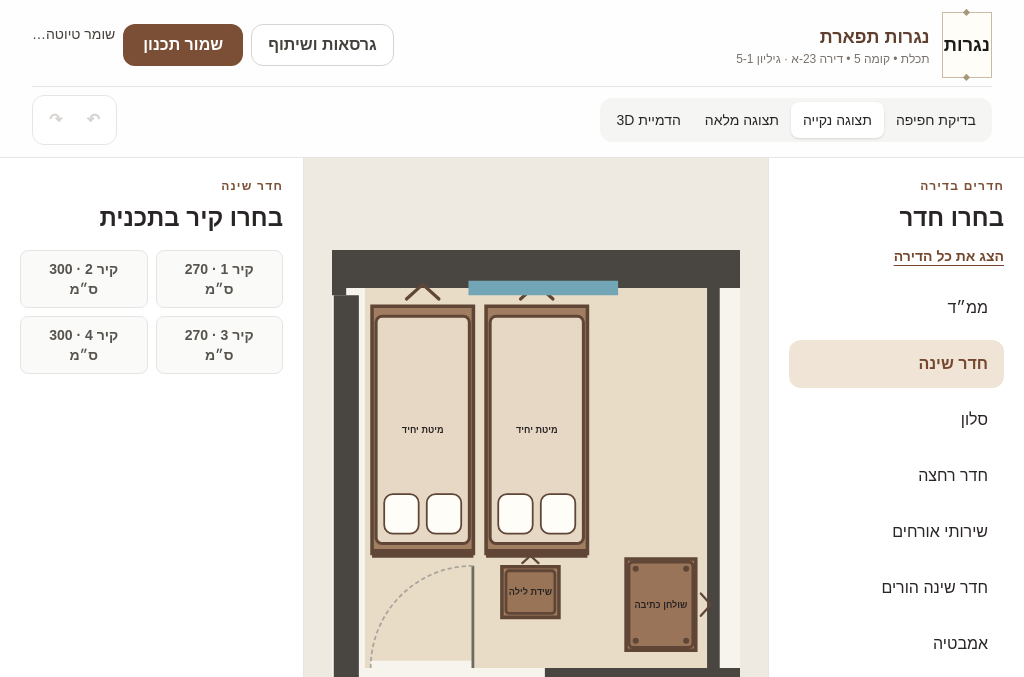
Test case: Tiferet planner UI › מוחק גרסה בלי לאבד את הטיוטה הפעילה
Click the button "גרסאות ושיתוף": (322, 45) x1=251 y1=24 x2=394 y2=66
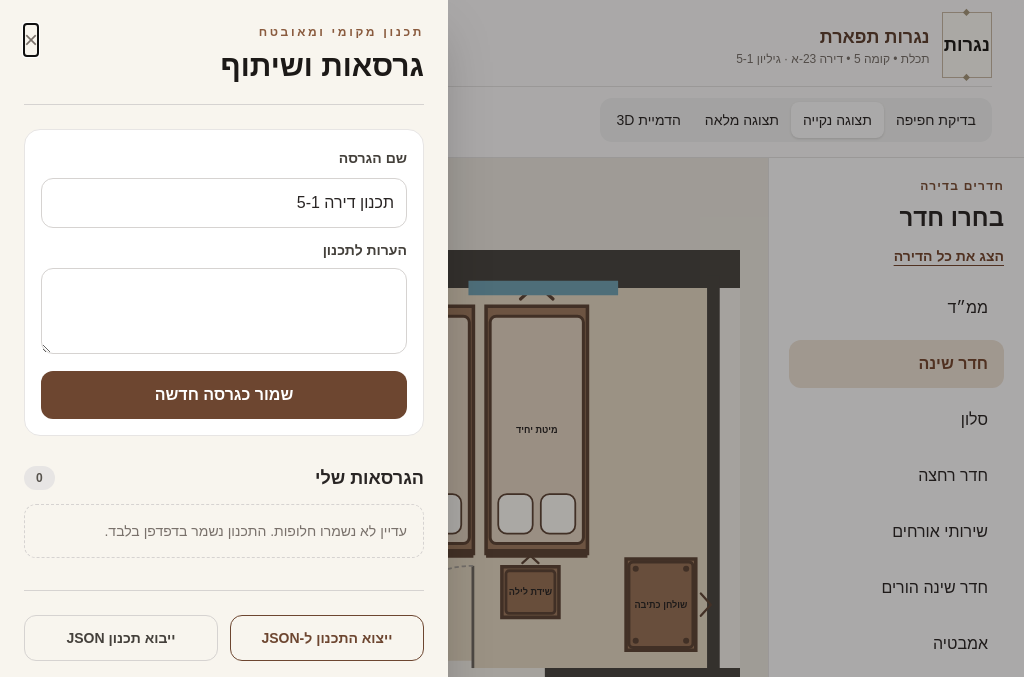
Replace the text in the field labelled "שם הגרסה" with "גרסה למחיקה": (224, 203) x1=41 y1=178 x2=407 y2=228
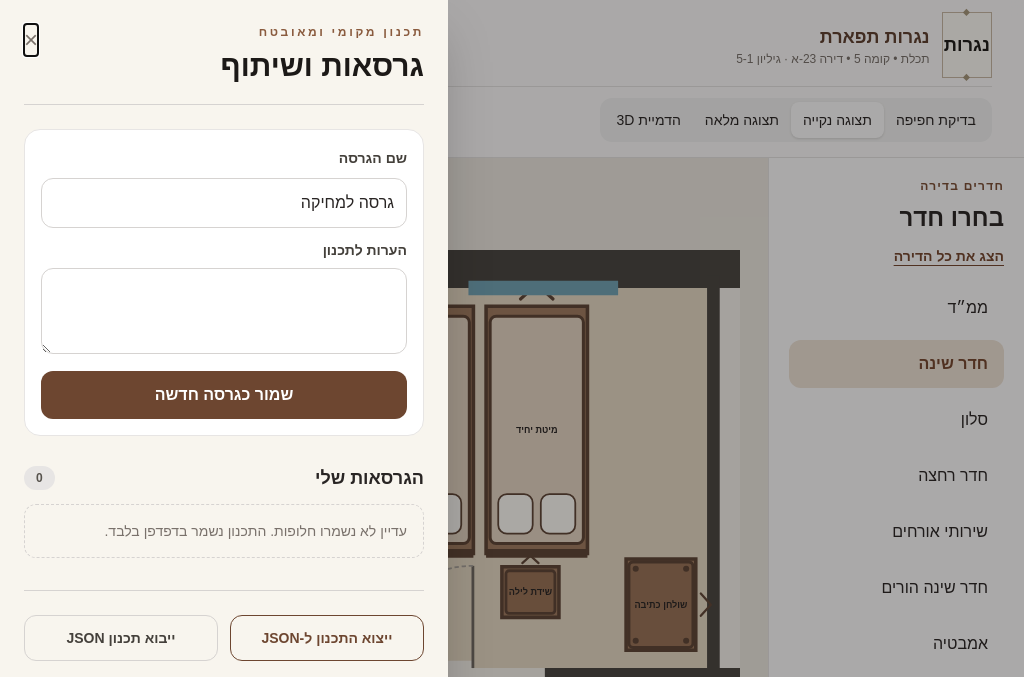
Click the button "שמור כגרסה חדשה": (224, 395) x1=41 y1=371 x2=407 y2=419
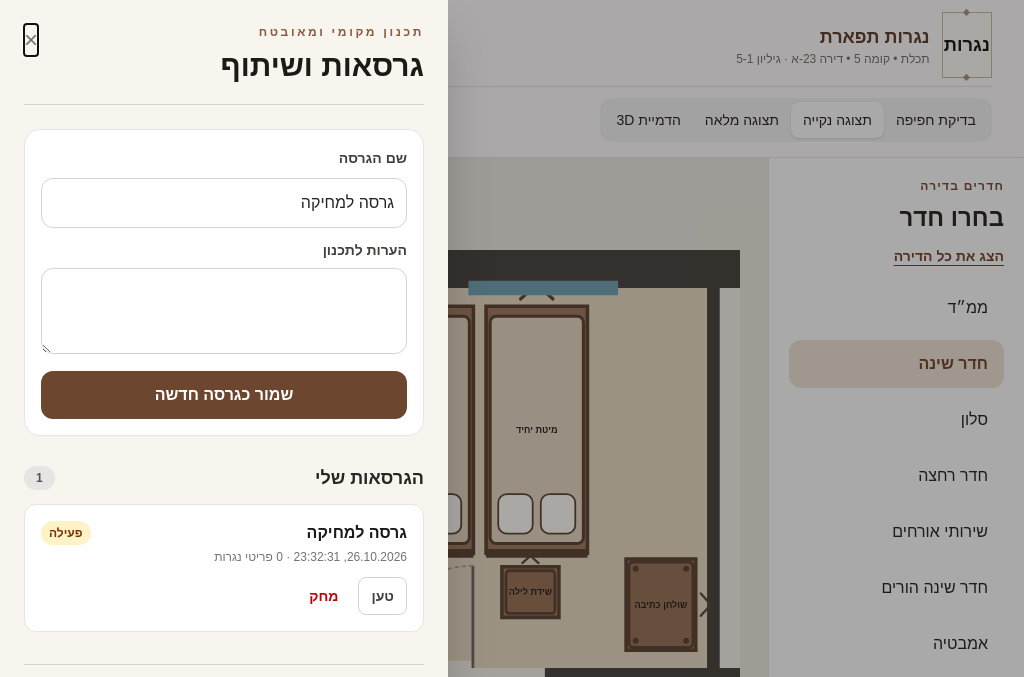
Click the button with aria-label "מחק גרסה גרסה למחיקה": (324, 596) x1=297 y1=577 x2=350 y2=615
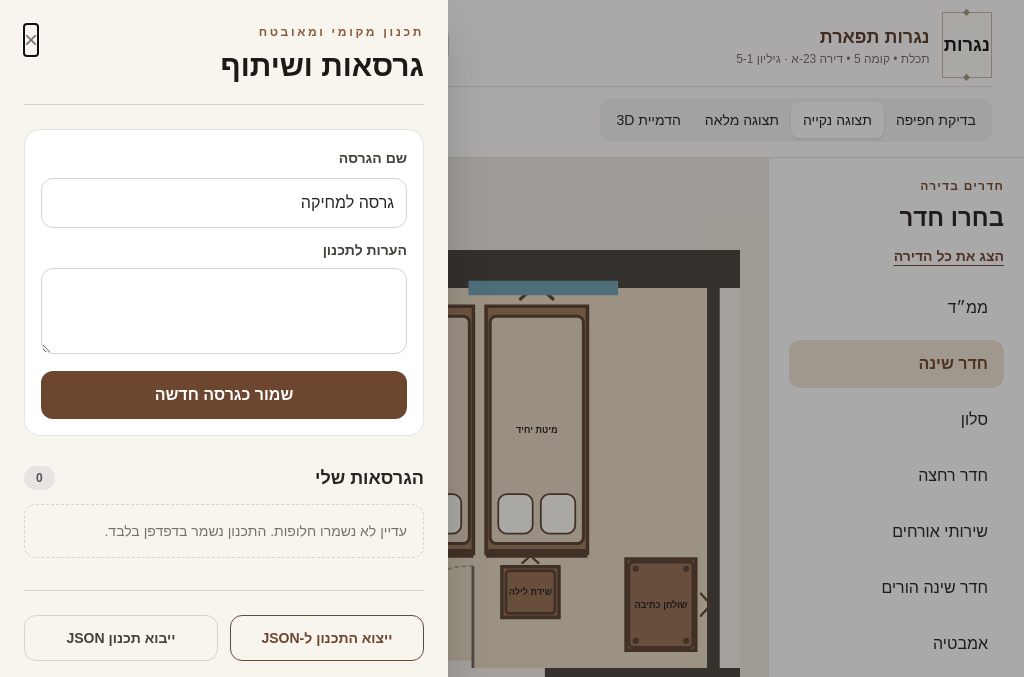
Expected: the text "עדיין לא נשמרו חלופות. התכנון נשמר בדפדפן בלבד." is shown, x1=24 y1=504 x2=424 y2=558
